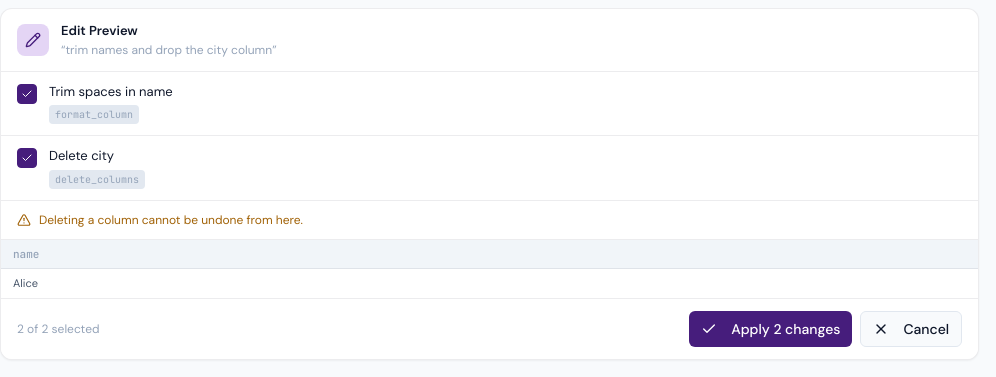
Test case: ManipulationPreviewCard › blocks Apply when nothing is selected
The image size is (996, 377).
Click the button named "this change" next to "Trim spaces in name". click: x=27, y=94
box: [17,84,37,104]
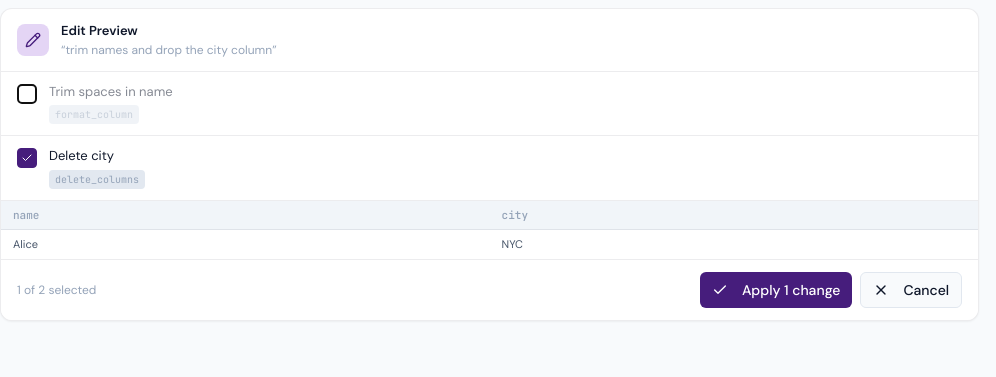
Click the button named "this change". click: x=27, y=158
box: [17,148,37,168]
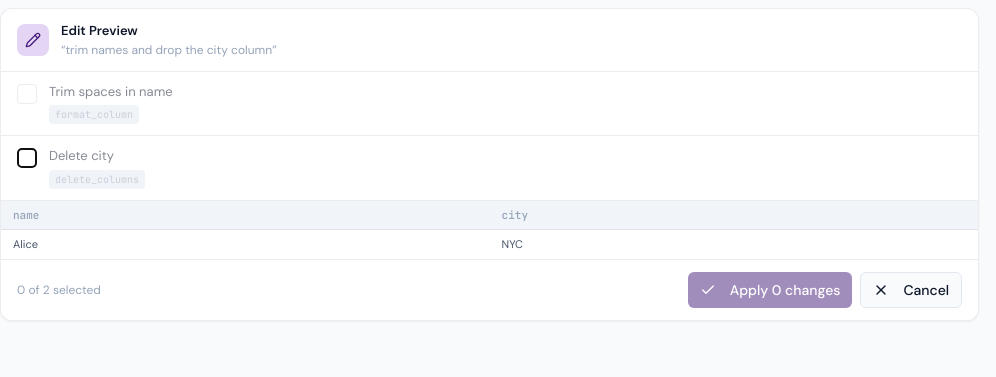
expect the button "Apply 0 changes" is disabled: met, box [688,272,852,308]
